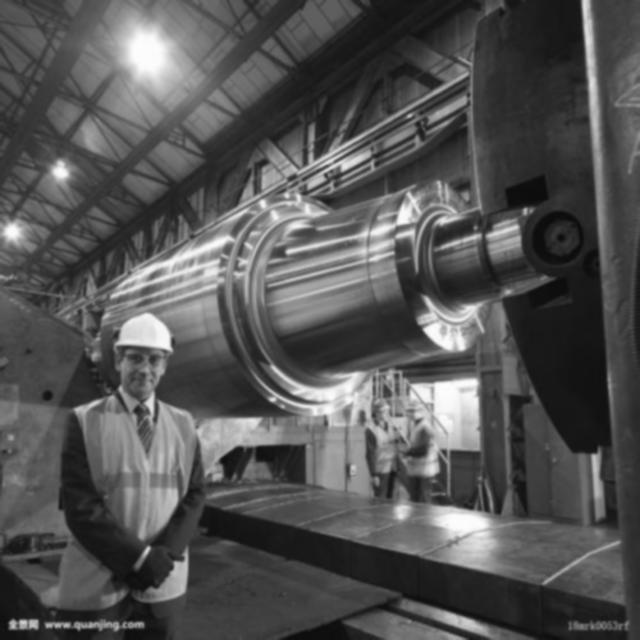head: (110, 308, 179, 402), (367, 397, 392, 428), (399, 398, 426, 422)
